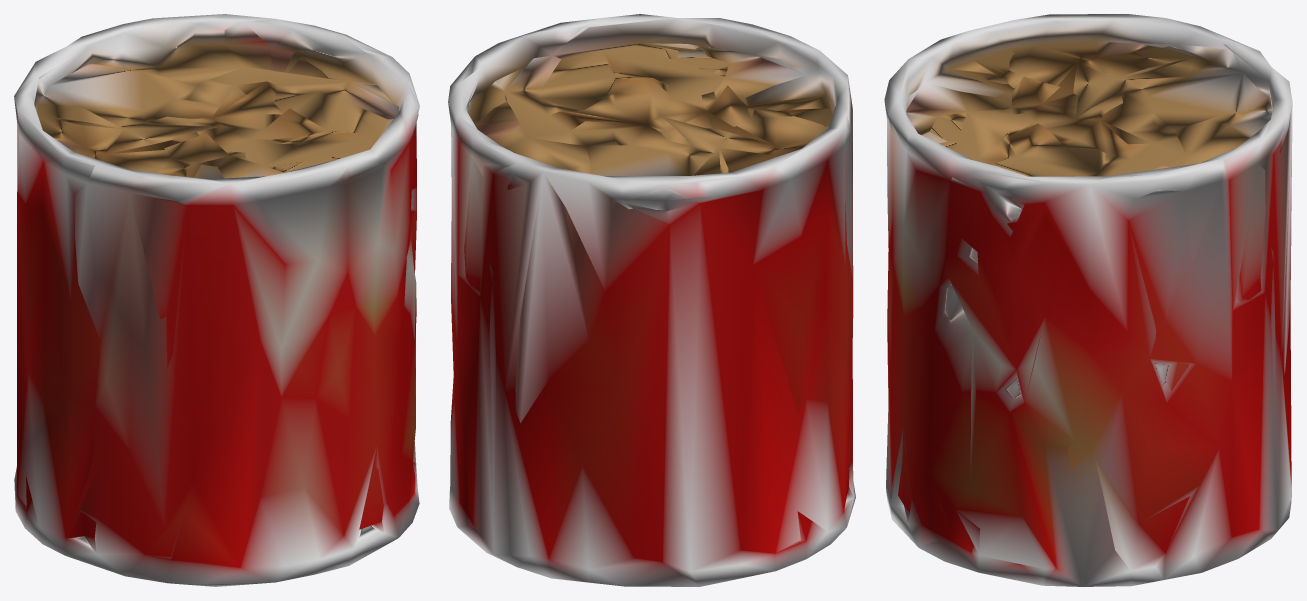
File: gen3d-canned-soup-lod1.glb
3 renders of one model, left to right at view 1: azimuth 30°, elevation 25°; view 2: azimuth 150°, elevation 25°; view 3: azimuth 270°, elevation 25°, orthographic.
Parts seen in each view (by area): view 1: part_0; view 2: part_0; view 3: part_0.
Part boxes in pixels (<box>): part_0: <box>14,14,419,586</box>; part_0: <box>448,14,855,586</box>; part_0: <box>884,14,1292,586</box>.
Size of the model in its own units: 0.9107 by 0.9996 by 0.9095.
